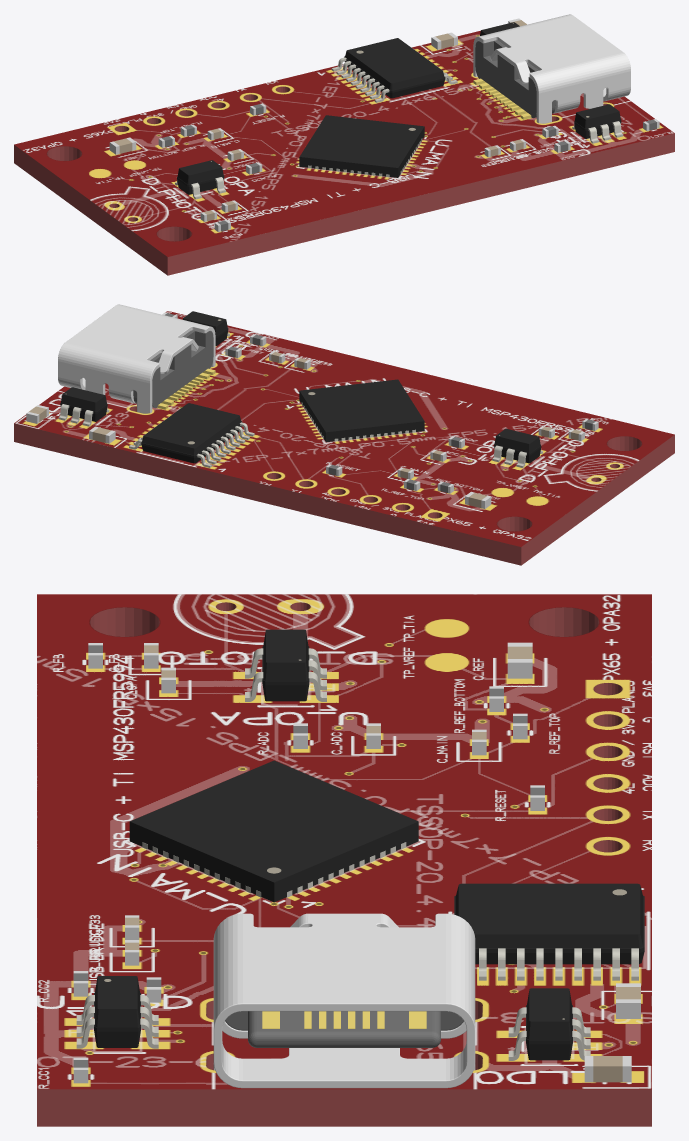
3 renders of one model, top to bottom at view 1: azimuth 30°, elevation 25°; view 2: azimuth 150°, elevation 25°; view 3: azimuth 270°, elevation 25°, orthographic. The views are drawn at different scales.
Visible parts, largest first — view 1: Box0, J1, U_MAIN, U_USB, U_ESD, U_OPA; view 2: Box0, J1, U_MAIN, U_USB, U_LDO, U_OPA, U_ESD; view 3: Box0, J1, U_MAIN, U_USB, U_ESD, U_OPA, U_LDO, C_LDO_IN, C_REF, C_LDO_OUT.
Part boxes in pixels (left/top/right/bottom): Box0: left=14, top=31, right=674, bottom=275; J1: left=473, top=14, right=630, bottom=123; U_MAIN: left=299, top=115, right=424, bottom=177; U_USB: left=331, top=38, right=457, bottom=102; U_ESD: left=572, top=104, right=623, bottom=143; U_OPA: left=175, top=160, right=225, bottom=199; Box0: left=14, top=311, right=674, bottom=565; J1: left=58, top=304, right=215, bottom=413; U_MAIN: left=299, top=379, right=424, bottom=442; U_USB: left=129, top=403, right=254, bottom=467; U_LDO: left=58, top=387, right=109, bottom=426; U_OPA: left=492, top=428, right=542, bottom=467; U_ESD: left=183, top=311, right=229, bottom=345; Box0: left=37, top=594, right=651, bottom=1126; J1: left=213, top=913, right=475, bottom=1088; U_MAIN: left=129, top=760, right=418, bottom=902; U_USB: left=454, top=883, right=644, bottom=980; U_ESD: left=76, top=976, right=158, bottom=1048; U_OPA: left=245, top=629, right=326, bottom=701; U_LDO: left=508, top=988, right=590, bottom=1060; C_LDO_IN: left=584, top=1056, right=631, bottom=1082; C_REF: left=507, top=642, right=532, bottom=678; C_LDO_OUT: left=616, top=983, right=640, bottom=1018.
Bounding box in the file's own units: 40.04 × 4.65 × 21.
Materials: 13 (2 with a texture image).
